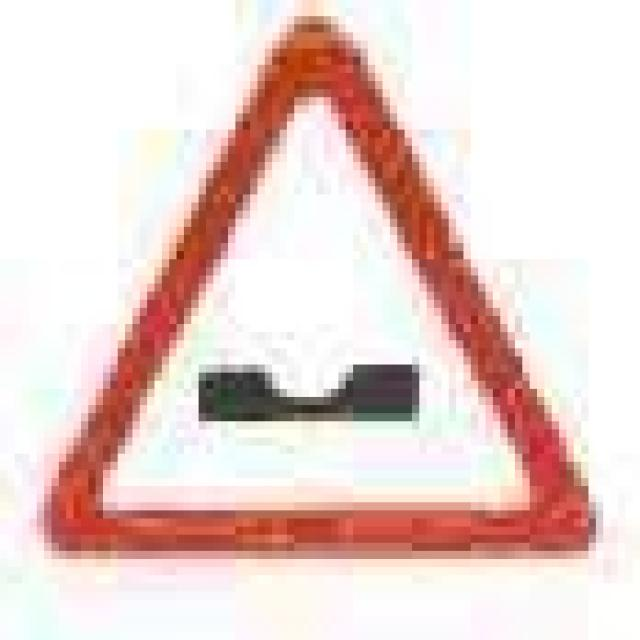DANGEROUS_DIP: (32, 7, 605, 569)
